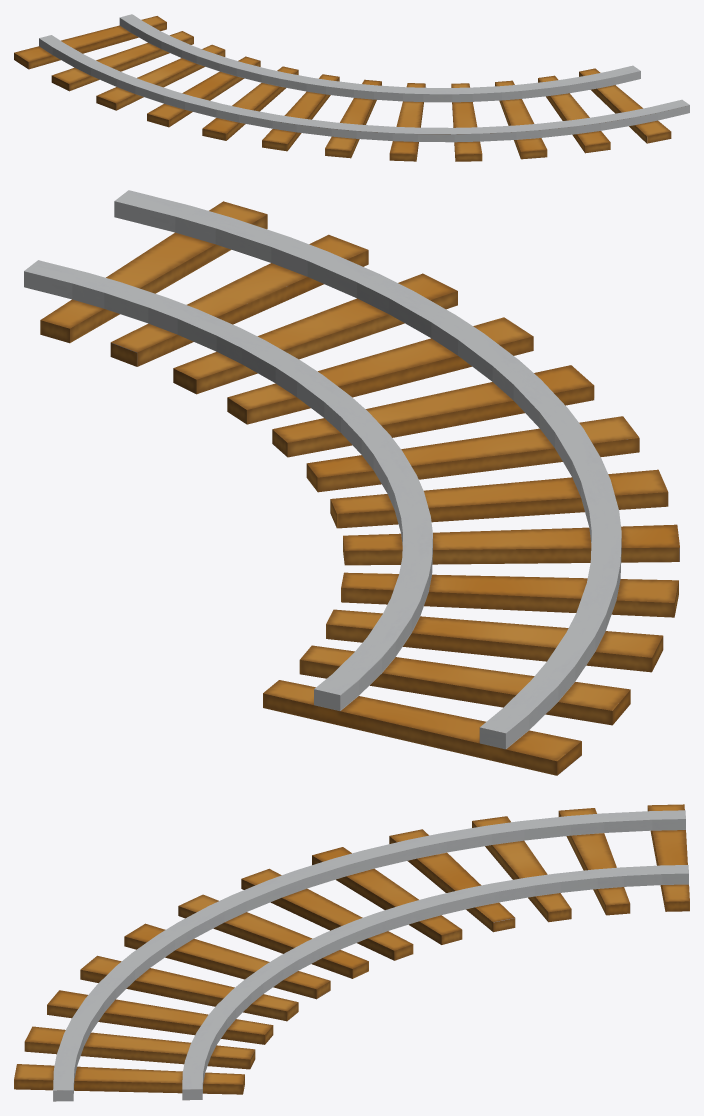
File: railbend.fbx
3 renders of one model, top to bottom at view 1: azimuth 30°, elevation 25°; view 2: azimuth 150°, elevation 25°; view 3: azimuth 270°, elevation 25°, orthographic. The views are drawn at different scales.
Visible parts, largest first — view 1: railbend; view 2: railbend; view 3: railbend.
Part boxes in pixels (bbox=[...]): railbend: bbox=[14, 14, 689, 161]; railbend: bbox=[24, 190, 679, 775]; railbend: bbox=[14, 804, 689, 1101].
Size of the model in its own units: 4.59 by 0.1509 by 4.41.
